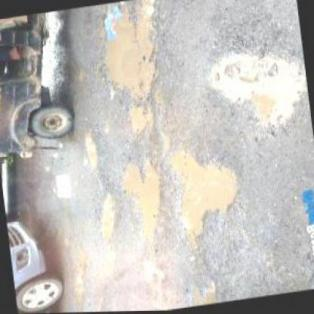Hueco: (197, 38, 310, 140), (162, 139, 247, 241), (116, 156, 168, 246), (92, 195, 119, 243), (122, 100, 155, 136), (185, 278, 222, 307), (80, 130, 102, 173)
